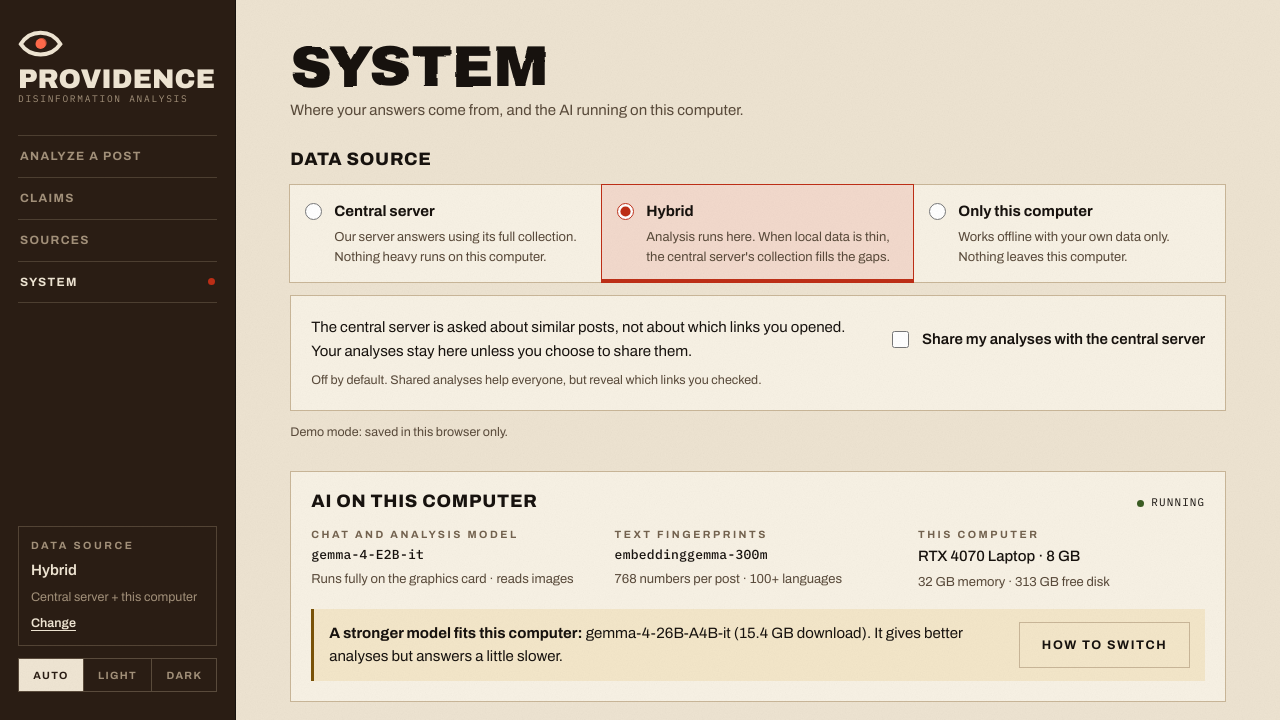
it: System › shows the local AI, the services and how to switch to a stronger model
Expected: the text "gemma-4-E2B-it" is shown, [311,546,424,563]
Expected: the text "embeddinggemma-300m" is shown, [615,546,768,563]
Click the button "How to switch" at [1105, 645], box [1019,622,1190,668]
(page scrolled)
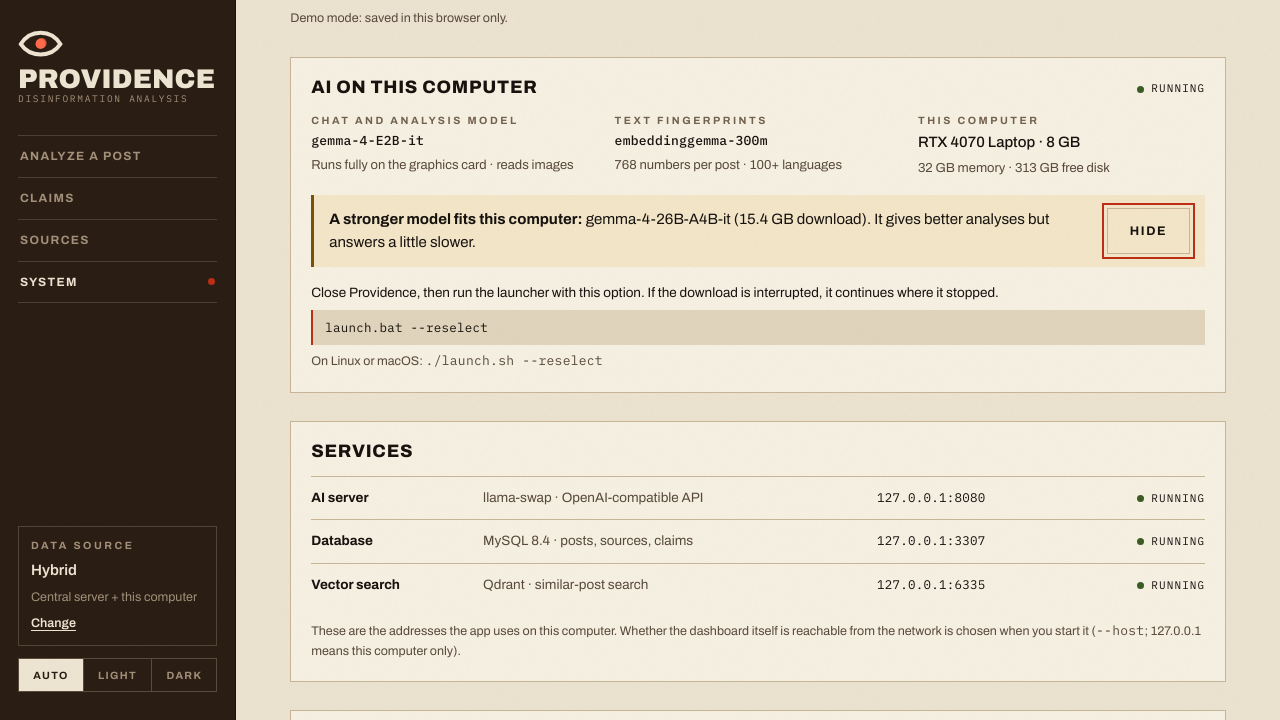
Expected: the text "launch.bat --reselect" is shown, [311,310,1205,345]
Expected: the text "./launch.sh --reselect" is shown, [426,352,603,369]
